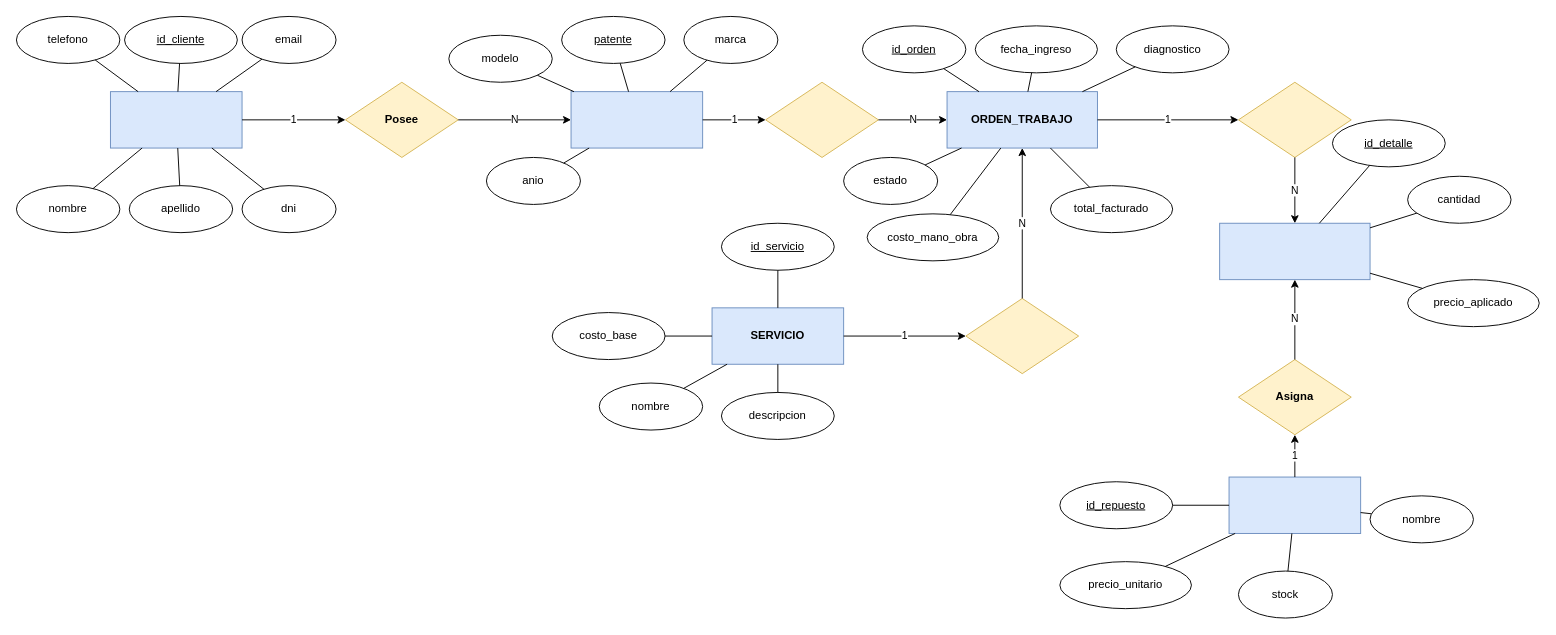
Image size: 1556x635. Some labels were removed from this diagram. The centre of each missing label's shape, as x and y in pixels:
Clasifica: point (1022, 336)
CLIENTE: point (176, 119)
Contiene: point (1294, 119)
DETALLE_ORDEN: point (1294, 251)
Registra: point (821, 119)
REPUESTO: point (1294, 504)
VEHICULO: point (636, 119)
